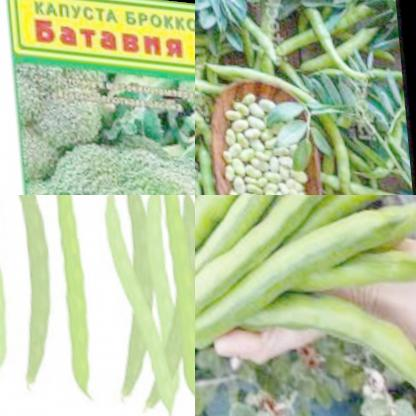beans: (195, 195, 416, 416), (286, 0, 409, 195), (90, 195, 195, 416), (0, 195, 102, 408), (195, 0, 274, 195), (218, 88, 317, 195), (232, 0, 312, 102)
broccoli: (0, 48, 109, 179), (17, 117, 195, 195)
